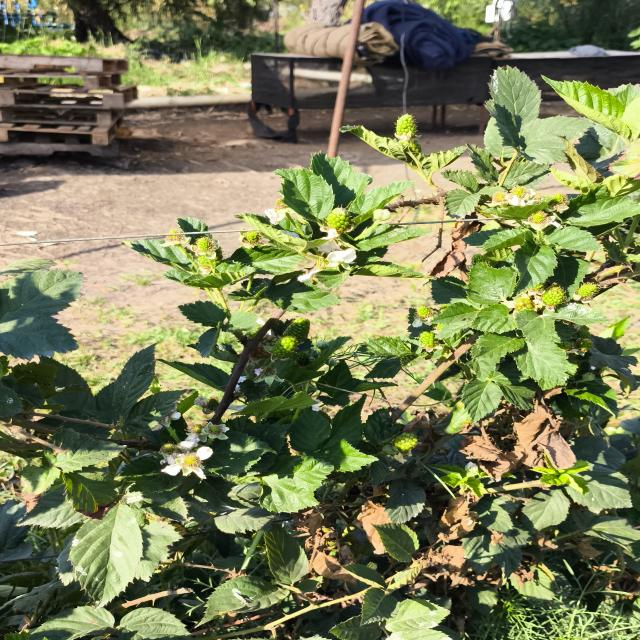boton: (373, 209, 391, 223)
flor: (162, 447, 213, 479)
verde: (395, 114, 421, 153), (324, 207, 351, 233), (283, 318, 310, 340), (272, 336, 297, 358), (541, 286, 566, 306), (393, 432, 418, 451), (575, 283, 598, 299), (514, 297, 534, 312)
